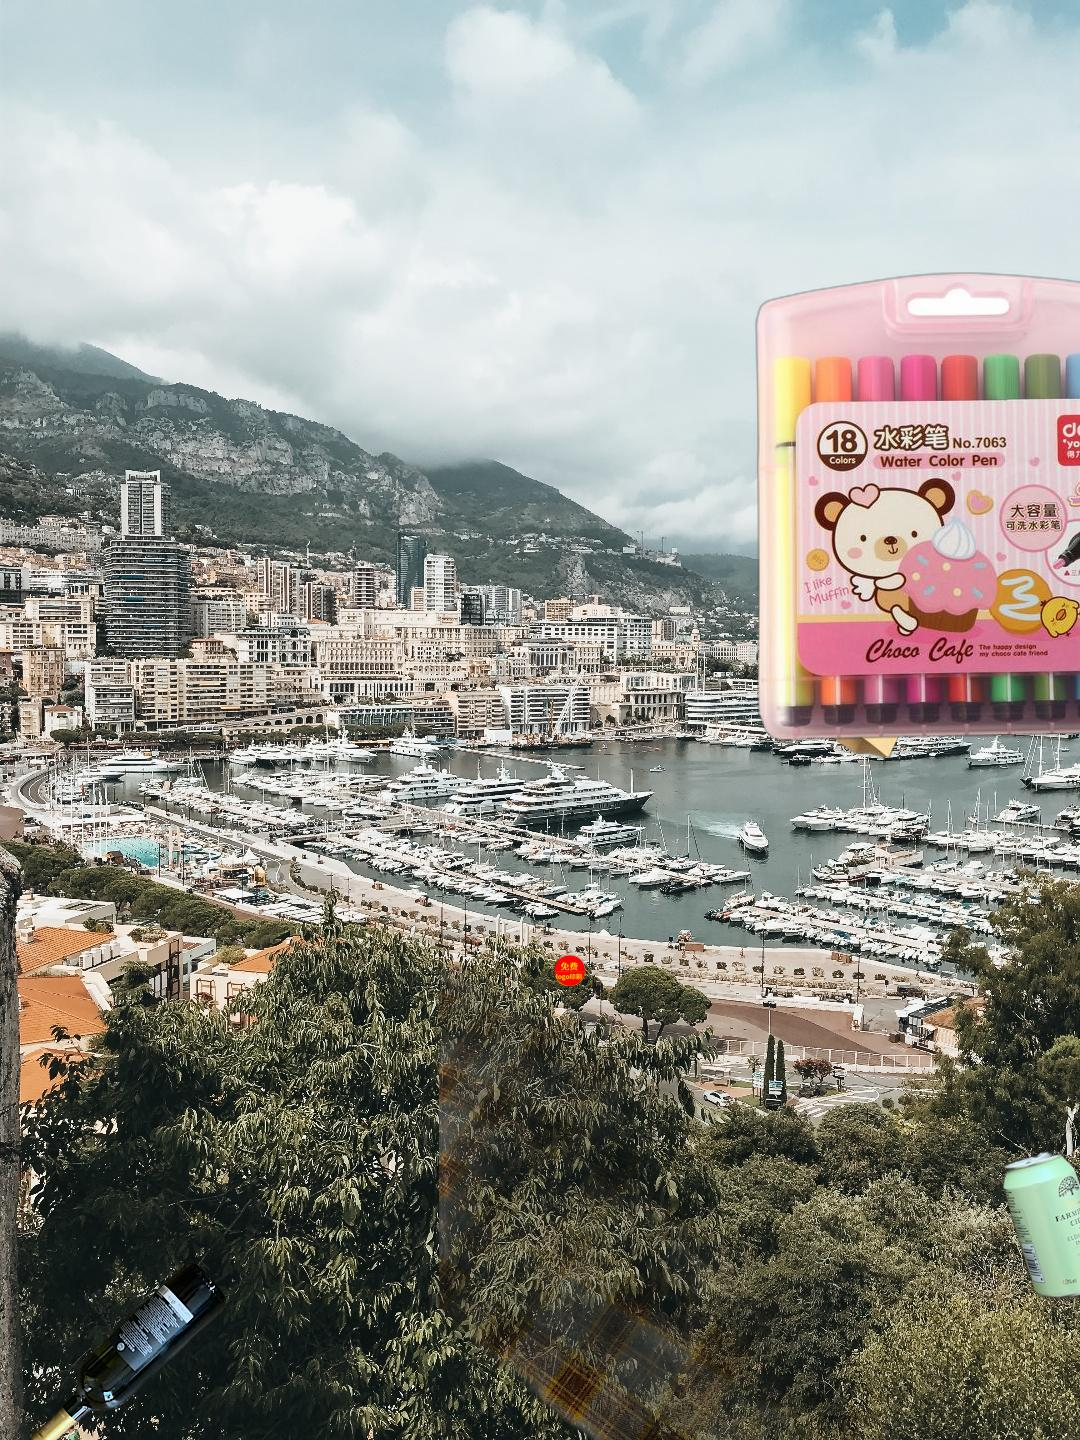glass: (26, 1257, 230, 1440)
metal-cans: (999, 1146, 1080, 1306)
paper-bag: (773, 575, 969, 777)
penholder: (751, 268, 1080, 745), (551, 840, 699, 988)
plastic-bottles: (439, 949, 951, 1440), (938, 454, 1012, 605)
trash: (1014, 327, 1080, 449)
